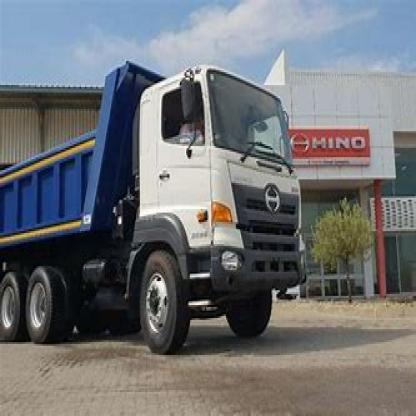dump_truck: (1, 54, 311, 368)
